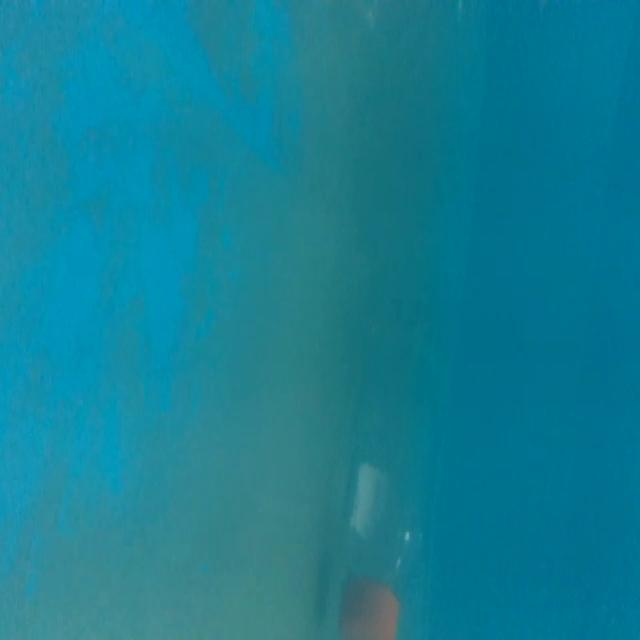plastic bottle: (334, 237, 474, 636)
